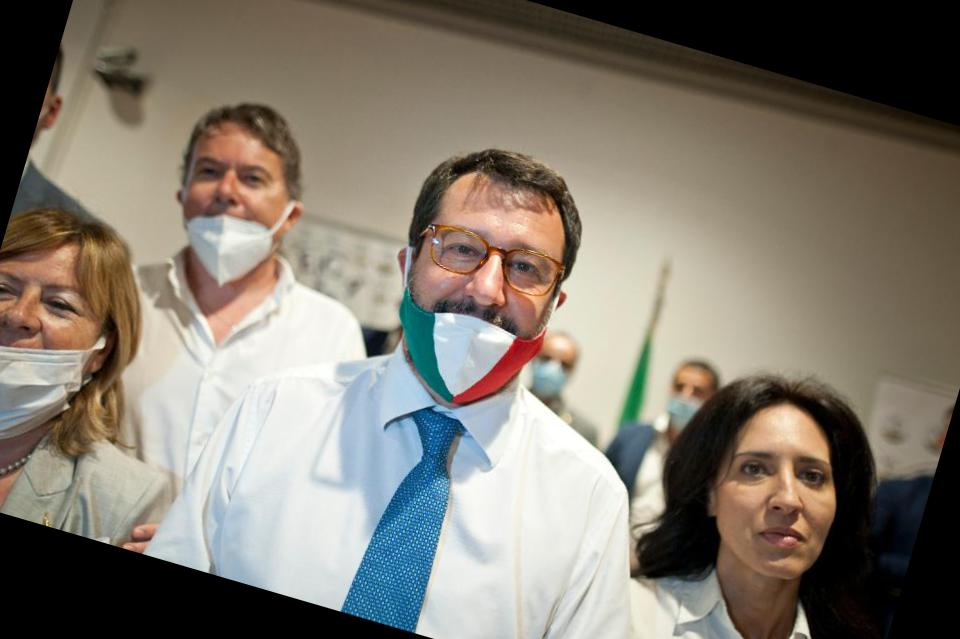mask_weared_incorrect: (390, 204, 572, 416), (161, 131, 311, 291), (1, 268, 85, 421)
with_mask: (665, 372, 712, 432), (532, 341, 577, 395)
without_mask: (701, 432, 852, 591)
